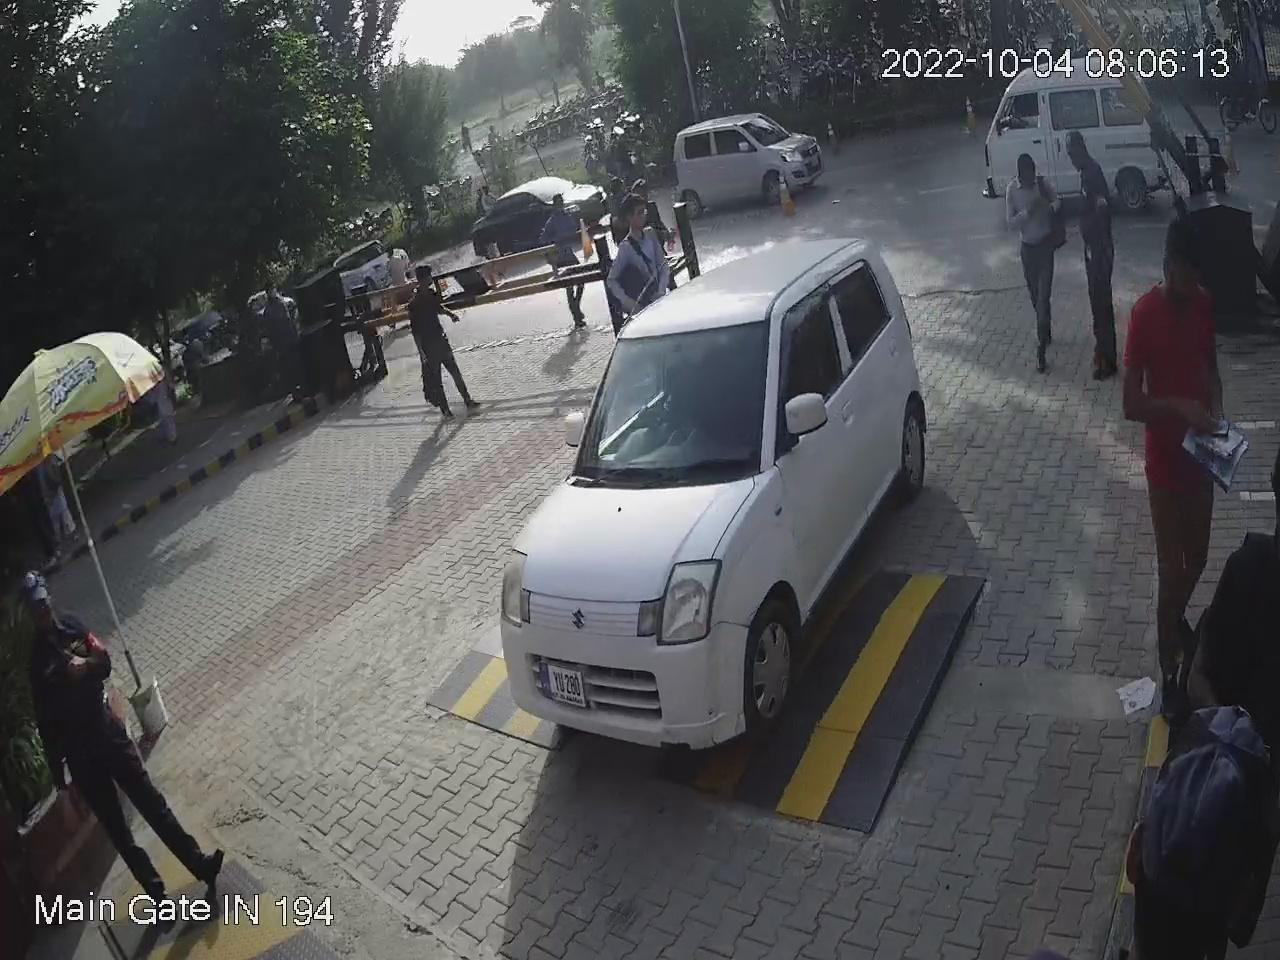windshield: (560, 310, 778, 500)
